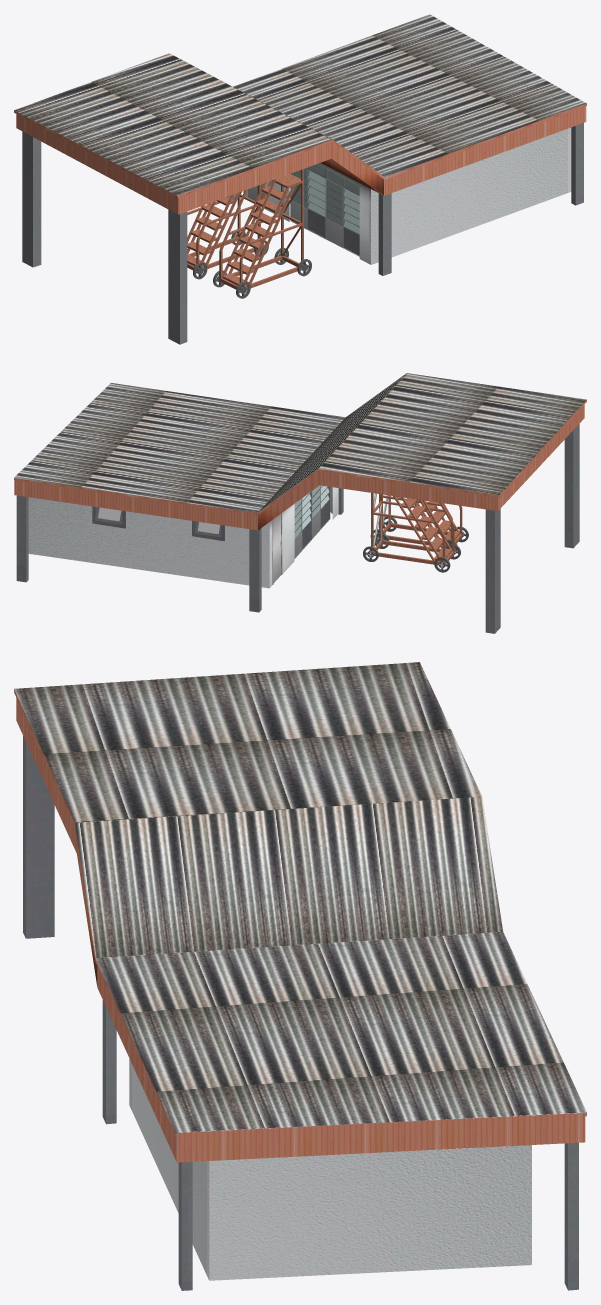
Rendered from Patio1ObjetosGol.gltf.
3 renders of one model, top to bottom at view 1: azimuth 30°, elevation 25°; view 2: azimuth 150°, elevation 25°; view 3: azimuth 270°, elevation 25°, orthographic. The views are drawn at different scales.
Visible parts, largest first — view 1: node7, node5, node3, node6, node13, node23, node9, node14, node10, node15; view 2: node7, node5, node3, node6, node9, node14, node10, node13, node23, node15, node20, node24 (+1 smaller); view 3: node7, node5, node3, node6.
Part boxes in pixels (x1=…): node7: x1=14, y1=14, x2=586, y2=195; node5: x1=371, y1=127, x2=571, y2=264; node3: x1=14, y1=103, x2=586, y2=214; node6: x1=22, y1=123, x2=583, y2=344; node13: x1=219, y1=169, x2=303, y2=289; node23: x1=291, y1=164, x2=359, y2=234; node9: x1=187, y1=184, x2=260, y2=270; node14: x1=290, y1=167, x2=359, y2=256; node10: x1=243, y1=163, x2=370, y2=264; node15: x1=193, y1=230, x2=311, y2=298; node7: x1=14, y1=373, x2=586, y2=512; node5: x1=28, y1=497, x2=269, y2=588; node3: x1=14, y1=400, x2=586, y2=530; node6: x1=16, y1=424, x2=579, y2=633; node9: x1=371, y1=493, x2=454, y2=564; node14: x1=92, y1=485, x2=330, y2=558; node10: x1=269, y1=487, x2=338, y2=587; node13: x1=379, y1=494, x2=462, y2=547; node23: x1=294, y1=485, x2=329, y2=538; node15: x1=363, y1=516, x2=468, y2=572; node20: x1=273, y1=514, x2=281, y2=582; node24: x1=98, y1=507, x2=219, y2=534; node7: x1=14, y1=662, x2=586, y2=1132; node5: x1=129, y1=1058, x2=531, y2=1280; node3: x1=14, y1=689, x2=585, y2=1162; node6: x1=23, y1=736, x2=578, y2=1290.
Size of the model in its own units: 19.53 by 6.39 by 12.41.
